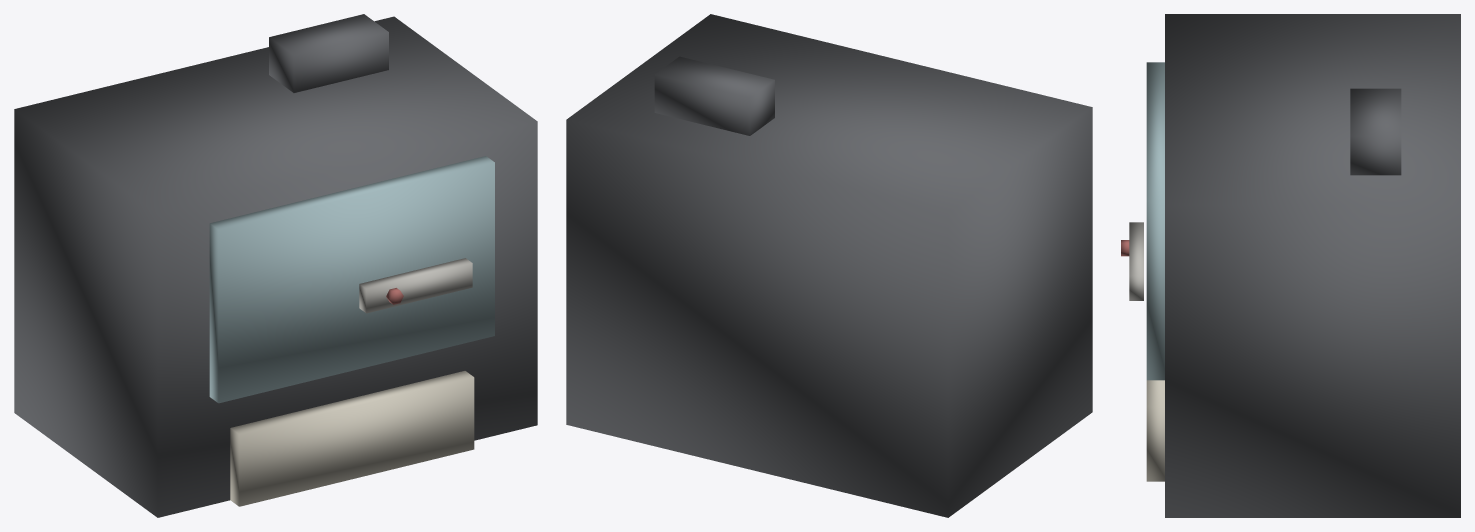
The model's file is television__service.glb.
3 renders of one model, left to right at view 1: azimuth 30°, elevation 25°; view 2: azimuth 150°, elevation 25°; view 3: azimuth 270°, elevation 25°, orthographic. The views are drawn at different scales.
Visible parts, largest first — view 1: world; view 2: world; view 3: world.
Boxes of the visible parts, x1,y1,x2,y2 form: world: (14, 14, 537, 517); world: (566, 14, 1092, 517); world: (1121, 14, 1460, 517).
Size of the model in its own units: 0.55 by 0.4725 by 0.4135.
